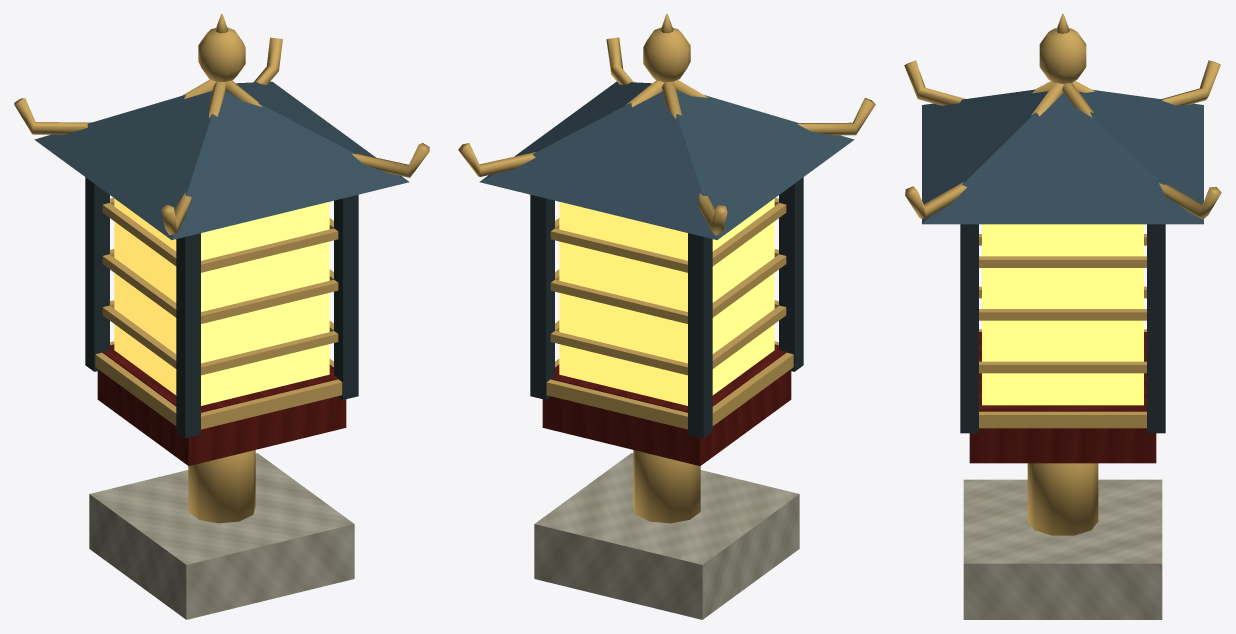
The model's file is lantern.glb.
3 views of the same model, side by side, from view 1: azimuth 30°, elevation 25°; view 2: azimuth 150°, elevation 25°; view 3: azimuth 270°, elevation 25° (orthographic). The views are drawn at different scales.
Visible parts, largest first — view 1: lantern_Temple_Charcoal_Glazed_Tiles, lantern_Temple_Worn_Pale_Stone, lantern_Temple_Lantern_Warm_Light, lantern_Temple_Antique_Gold, lantern_Temple_Dark_Ridge_and_Iron, lantern_Temple_Red_Timber; view 2: lantern_Temple_Charcoal_Glazed_Tiles, lantern_Temple_Worn_Pale_Stone, lantern_Temple_Lantern_Warm_Light, lantern_Temple_Antique_Gold, lantern_Temple_Dark_Ridge_and_Iron, lantern_Temple_Red_Timber; view 3: lantern_Temple_Charcoal_Glazed_Tiles, lantern_Temple_Worn_Pale_Stone, lantern_Temple_Lantern_Warm_Light, lantern_Temple_Antique_Gold, lantern_Temple_Red_Timber, lantern_Temple_Dark_Ridge_and_Iron.
Boxes of the visible parts, box(x1,y1,x2,y2) form: lantern_Temple_Charcoal_Glazed_Tiles: box(34, 81, 409, 239); lantern_Temple_Worn_Pale_Stone: box(89, 453, 354, 619); lantern_Temple_Lantern_Warm_Light: box(114, 198, 329, 405); lantern_Temple_Antique_Gold: box(14, 14, 429, 523); lantern_Temple_Dark_Ridge_and_Iron: box(85, 177, 358, 438); lantern_Temple_Red_Timber: box(97, 344, 346, 465); lantern_Temple_Charcoal_Glazed_Tiles: box(479, 81, 854, 239); lantern_Temple_Worn_Pale_Stone: box(534, 453, 799, 619); lantern_Temple_Lantern_Warm_Light: box(559, 198, 774, 405); lantern_Temple_Antique_Gold: box(458, 14, 875, 523); lantern_Temple_Dark_Ridge_and_Iron: box(530, 177, 803, 438); lantern_Temple_Red_Timber: box(542, 344, 791, 465); lantern_Temple_Charcoal_Glazed_Tiles: box(922, 89, 1203, 224); lantern_Temple_Worn_Pale_Stone: box(963, 479, 1162, 619); lantern_Temple_Lantern_Warm_Light: box(982, 224, 1143, 405); lantern_Temple_Antique_Gold: box(904, 14, 1221, 535); lantern_Temple_Red_Timber: box(969, 332, 1156, 463); lantern_Temple_Dark_Ridge_and_Iron: box(960, 224, 1165, 433).
Size of the model in its own units: 0.7662 by 1.5 by 0.7662.
6 materials, 2 textured.
